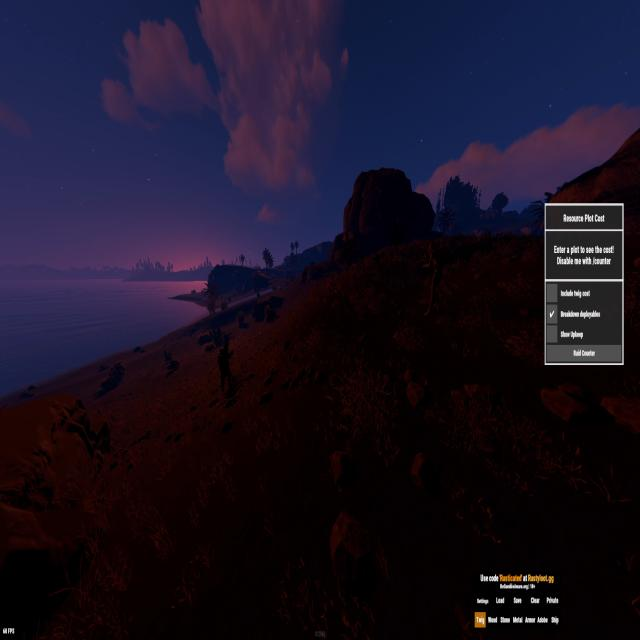Player: (422, 241, 442, 317), (218, 341, 234, 392)
